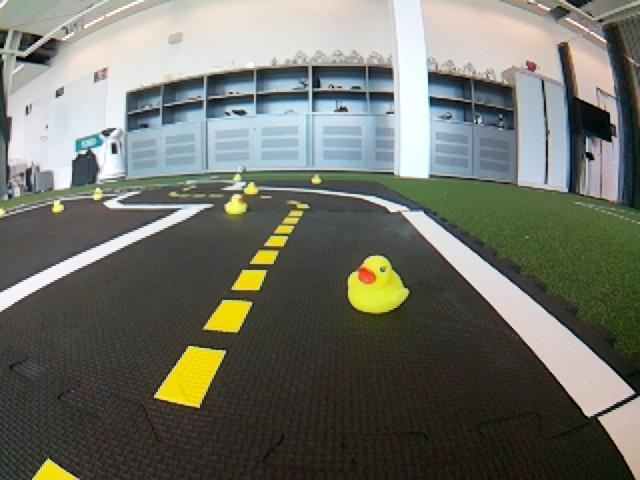Duckies: (348, 257, 408, 315), (223, 194, 247, 215), (243, 182, 258, 194), (52, 200, 64, 212), (311, 174, 322, 184), (92, 192, 103, 200), (0, 208, 7, 217), (93, 188, 102, 194), (233, 175, 241, 180)
